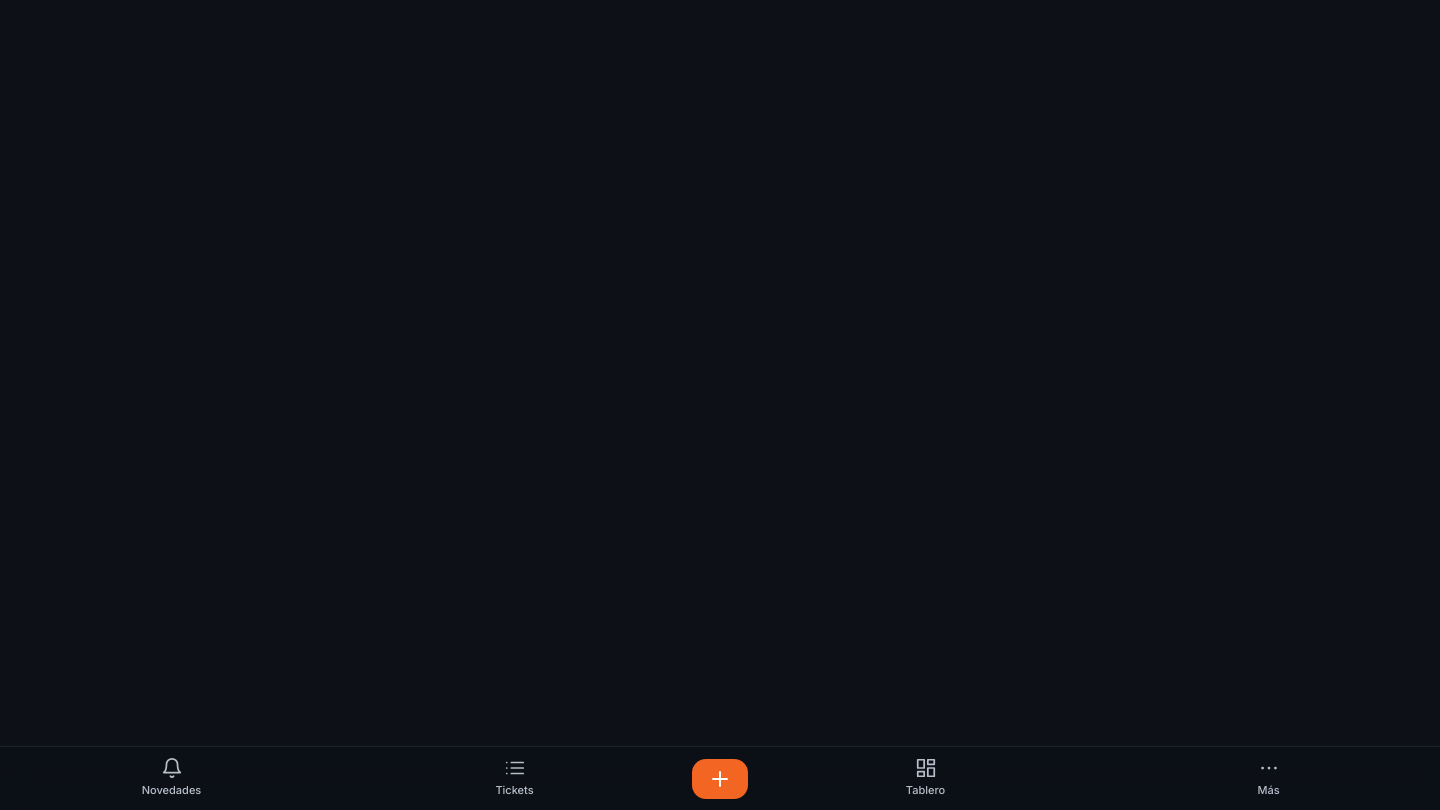
Test case: NavegacionMovil › un administrador ve además Usuarios y Parámetros
Click the button "Más".
click(1268, 778)  # box [1097,747,1439,809]
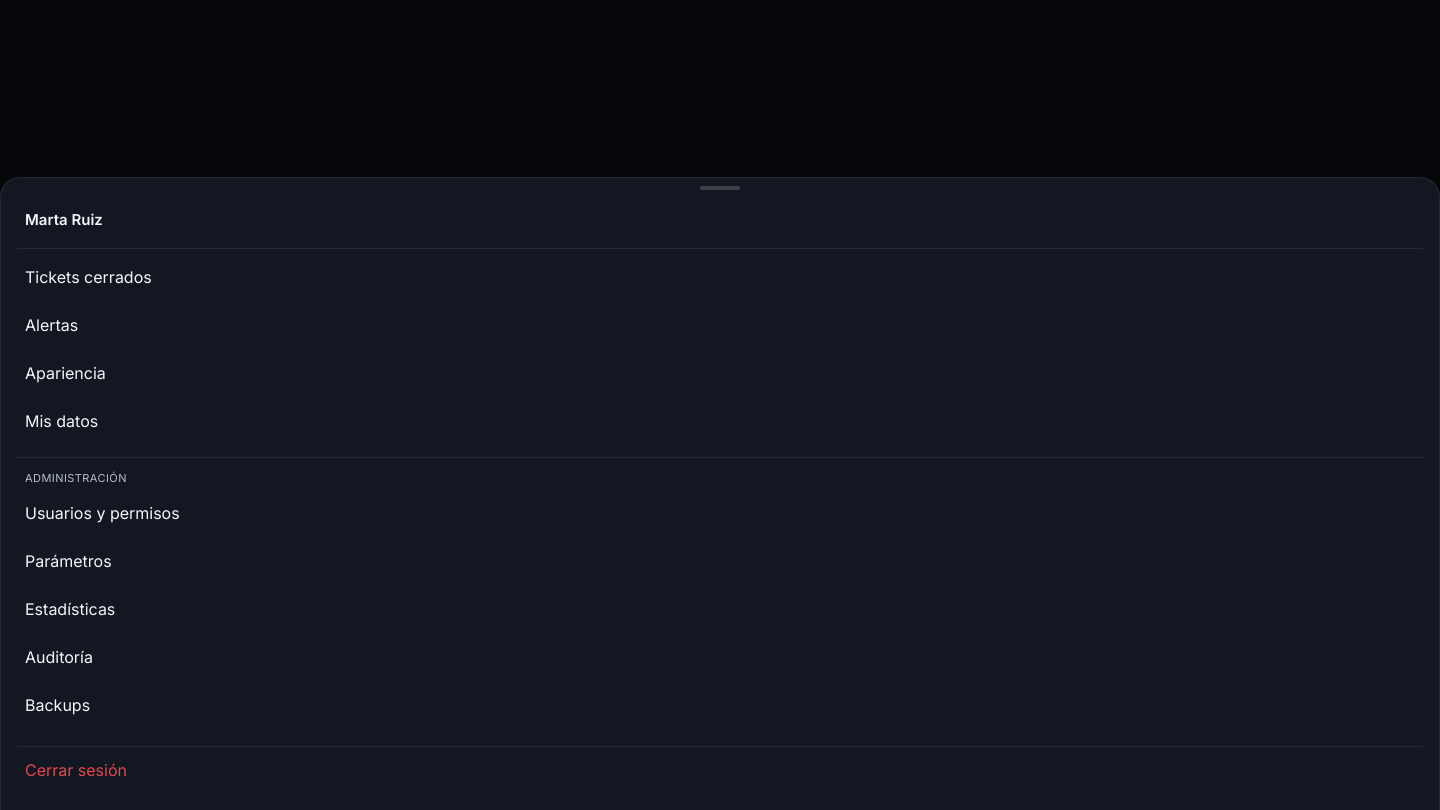
Now the link "Usuarios y permisos" is shown, box [25,503,180,523]
Now the link "Parámetros" is shown, box [25,551,112,571]
